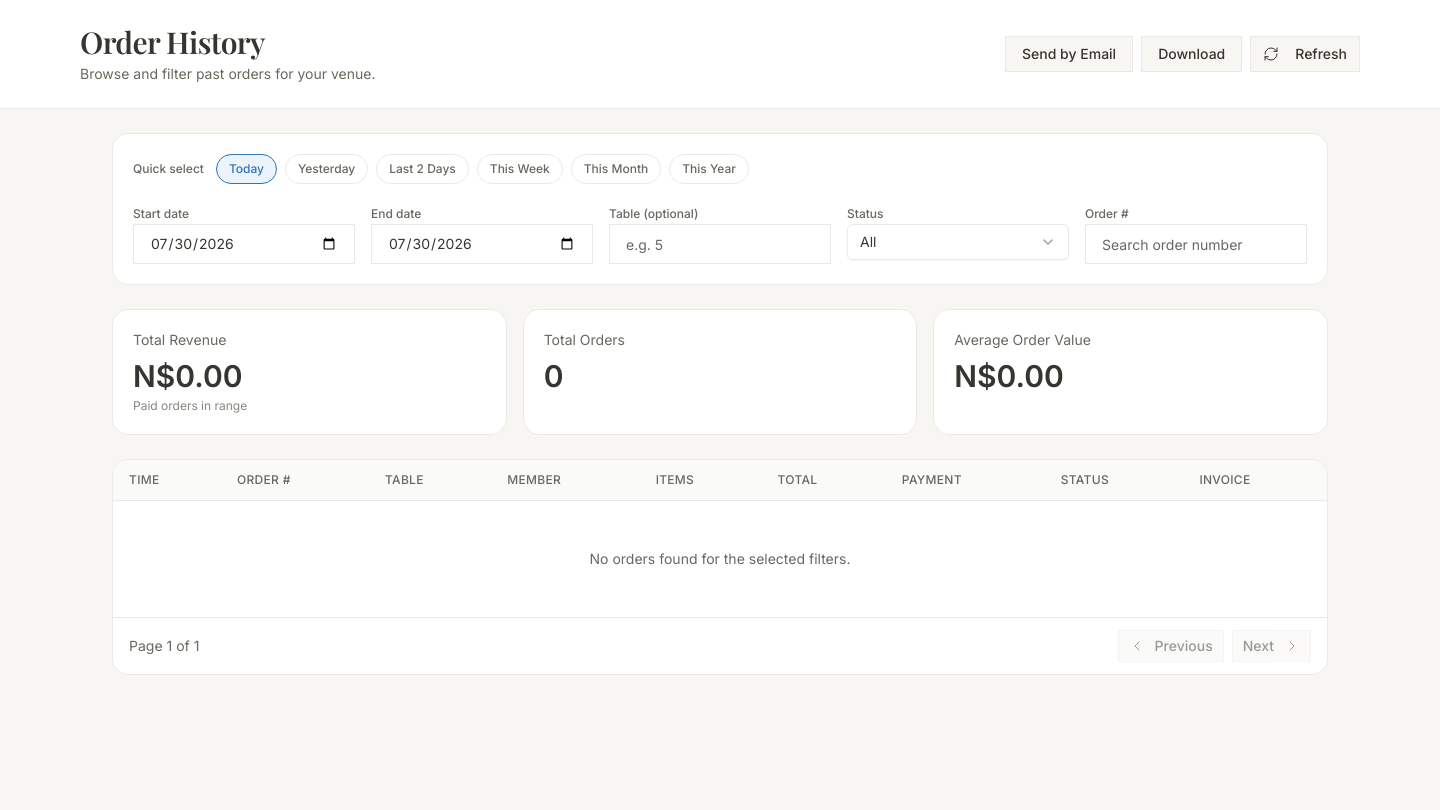
Test case: quick-select presets › This Month populates both fields and refreshes the results
Click the button "This Month" at (616, 169), box x1=571 y1=154 x2=661 y2=184
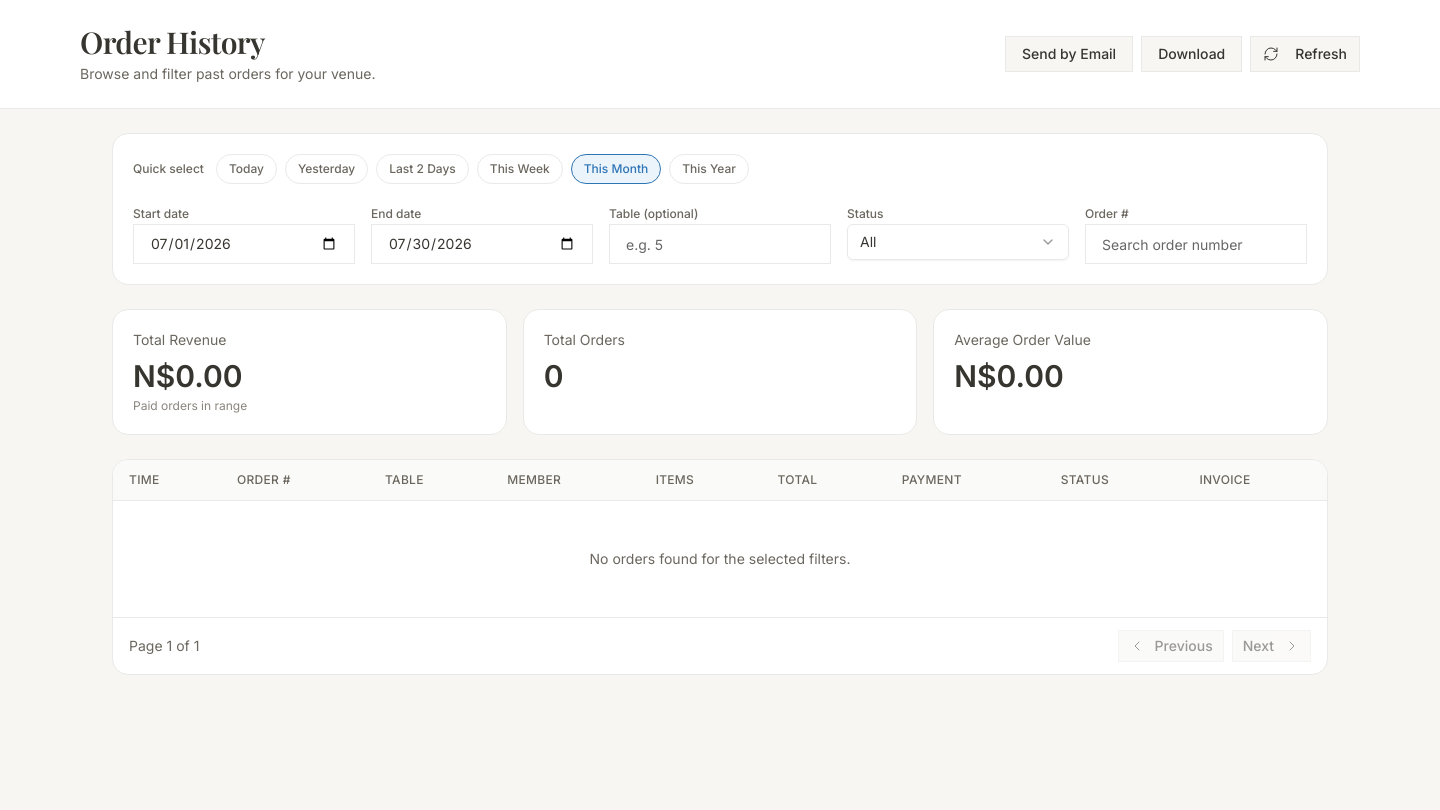
Expected: the date field below "End date" holds "2026-07-30", x1=371 y1=224 x2=593 y2=264
Now the date field below "Start date" holds "2026-07-01", box x1=133 y1=224 x2=355 y2=264
